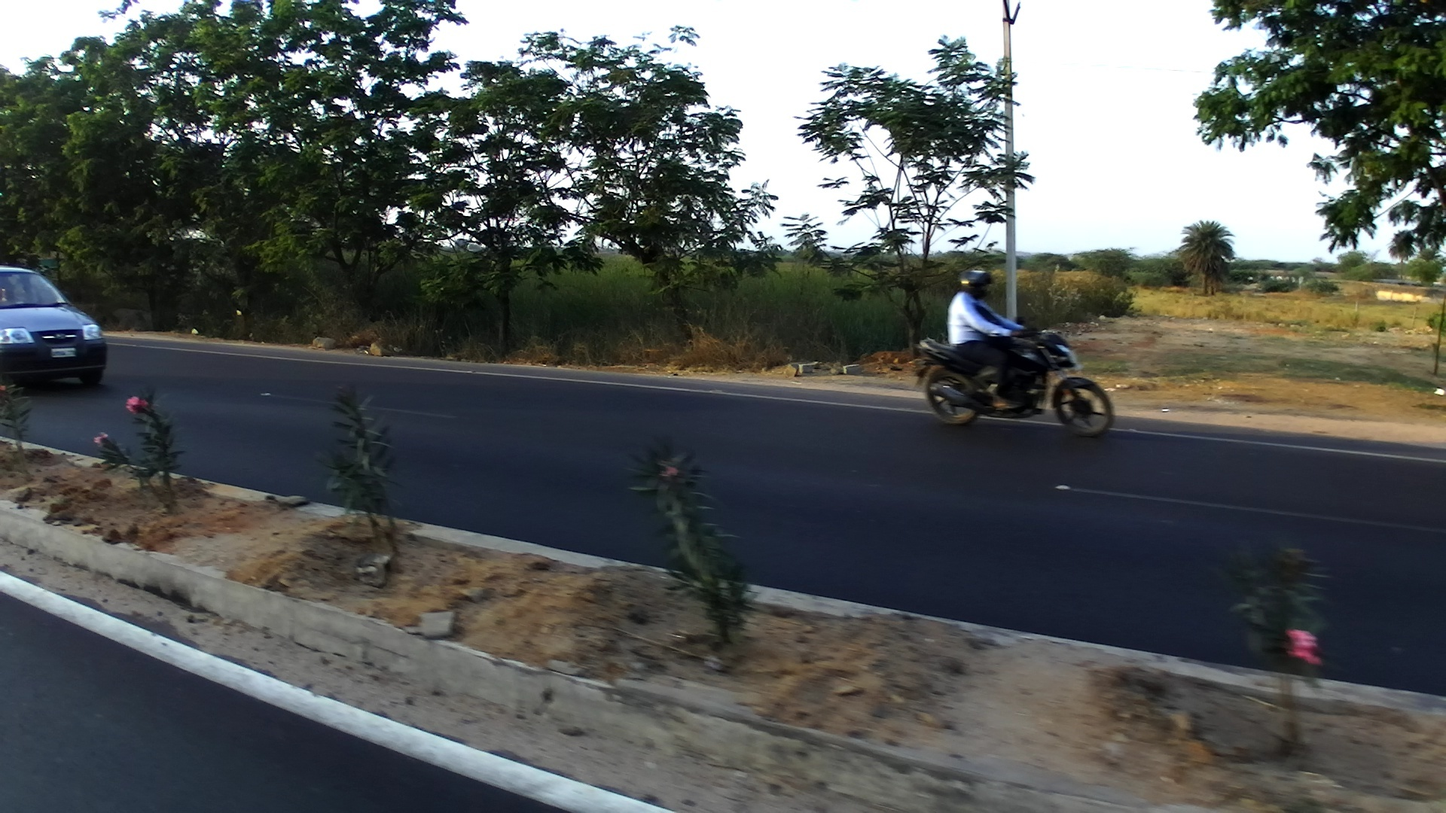car: (1, 265, 108, 389)
motorcycle: (914, 312, 1114, 439)
rider: (946, 266, 1044, 411)
